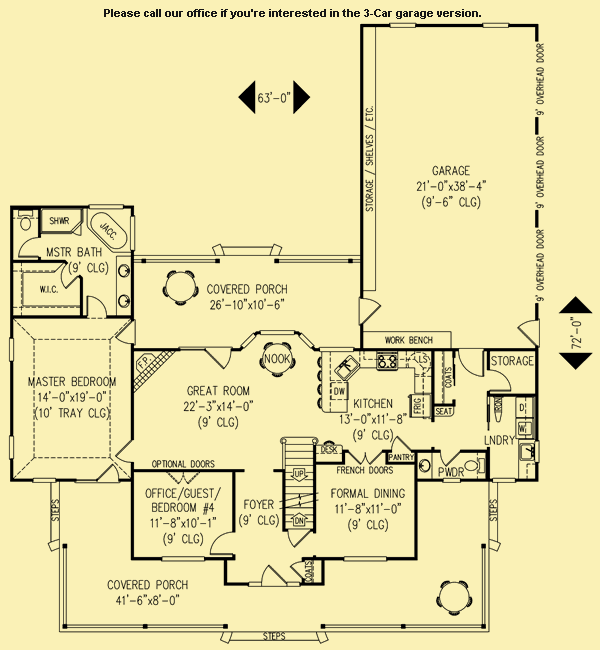door: (453, 347, 491, 380), (200, 340, 234, 371), (344, 442, 385, 466), (163, 466, 205, 486), (488, 366, 515, 397), (514, 318, 543, 346), (259, 564, 290, 590), (207, 530, 239, 555), (82, 292, 112, 318), (356, 295, 382, 323), (114, 436, 136, 466), (16, 235, 43, 259), (116, 321, 142, 345), (58, 261, 80, 288), (96, 462, 118, 485)
kitchen bar: (313, 352, 351, 417)
large sink: (14, 206, 39, 233), (465, 452, 491, 476)
small sink: (113, 252, 133, 317), (415, 450, 434, 479)
stairs: (277, 433, 321, 537)
twin sink: (332, 354, 364, 382)
windows: (157, 550, 207, 566), (340, 552, 390, 566), (478, 19, 517, 32), (3, 333, 17, 361), (385, 19, 420, 28), (29, 476, 58, 486), (7, 432, 16, 461)
